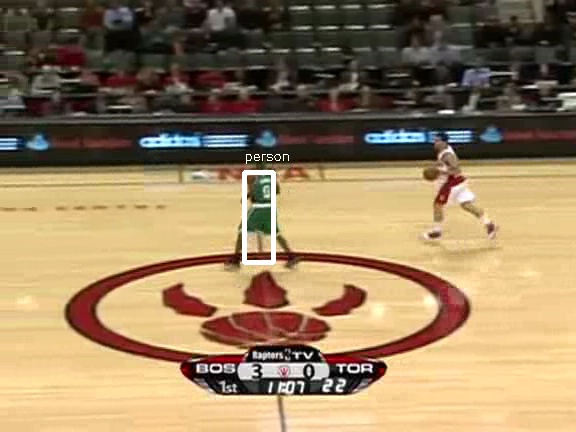person: (248, 165, 282, 246), (247, 165, 281, 246), (249, 165, 283, 246), (248, 164, 282, 245), (248, 166, 282, 247)
target_negative: (213, 96, 566, 416), (391, 239, 542, 431), (103, 243, 246, 399), (176, 69, 273, 278), (146, 338, 550, 358), (379, 380, 566, 394)
